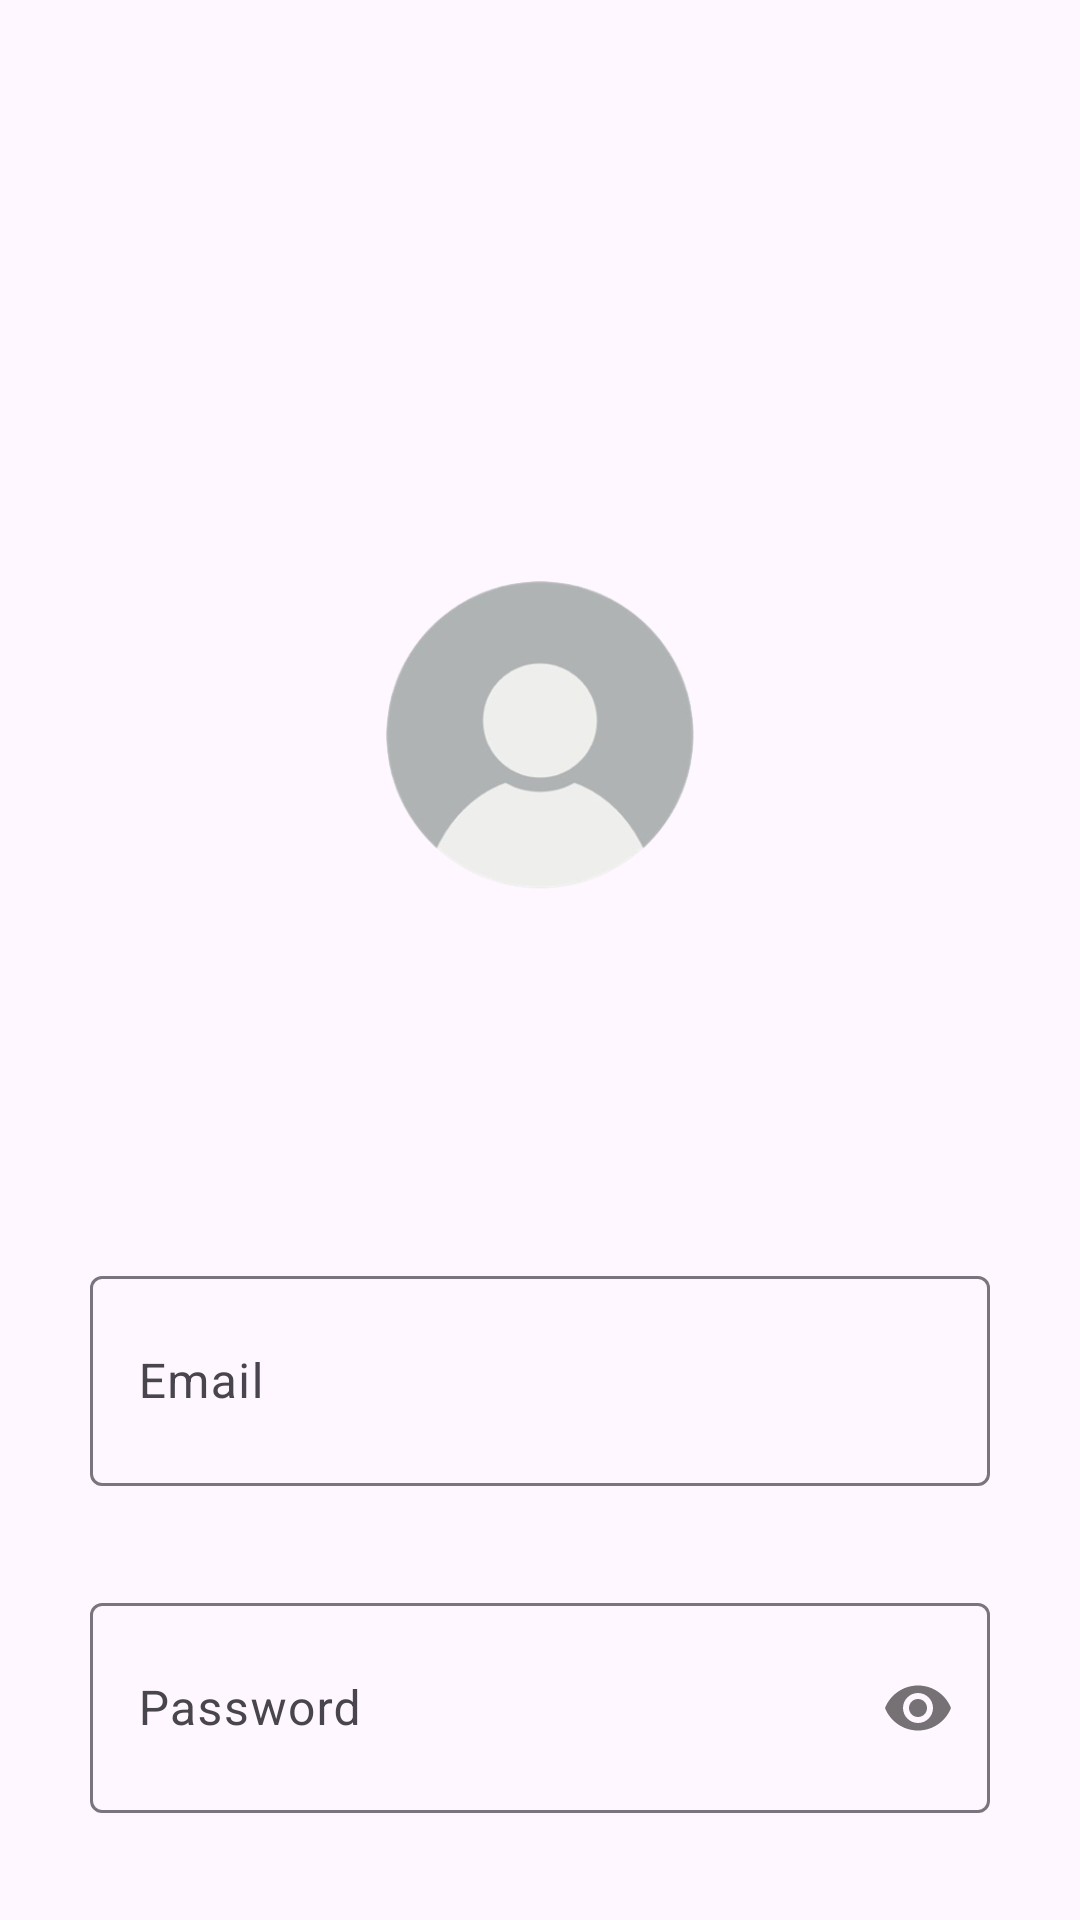

Icons on this 1080px×1920px Android screen, each with its box as (x1, y1, x2, y2):
user profile: (386, 581, 694, 848)
